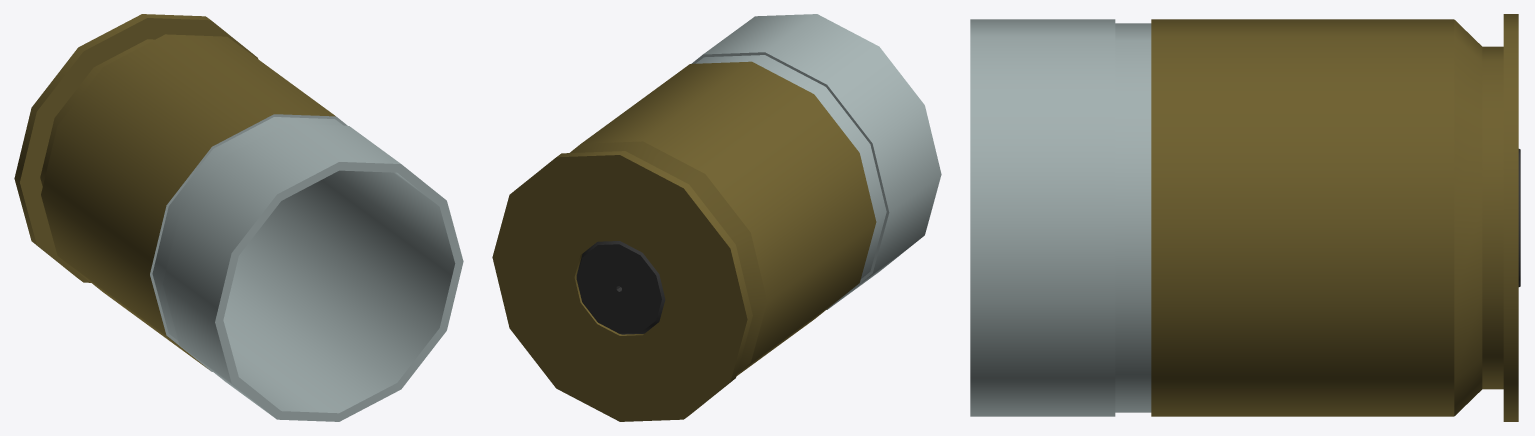
File: Empty40mm.FBX
The picture shows the model from 3 angles, left to right: view 1: azimuth 30°, elevation 25°; view 2: azimuth 150°, elevation 25°; view 3: azimuth 270°, elevation 25°; orthographic projection. The views are drawn at different scales.
Parts seen in each view (by area): view 1: Empty40mm; view 2: Empty40mm; view 3: Empty40mm.
Boxes of the visible parts, bbox=[...] form: Empty40mm: bbox=[14, 14, 463, 421]; Empty40mm: bbox=[492, 14, 941, 421]; Empty40mm: bbox=[970, 14, 1520, 421].
Size of the model in its own units: 3.93 by 3.93 by 5.28.
